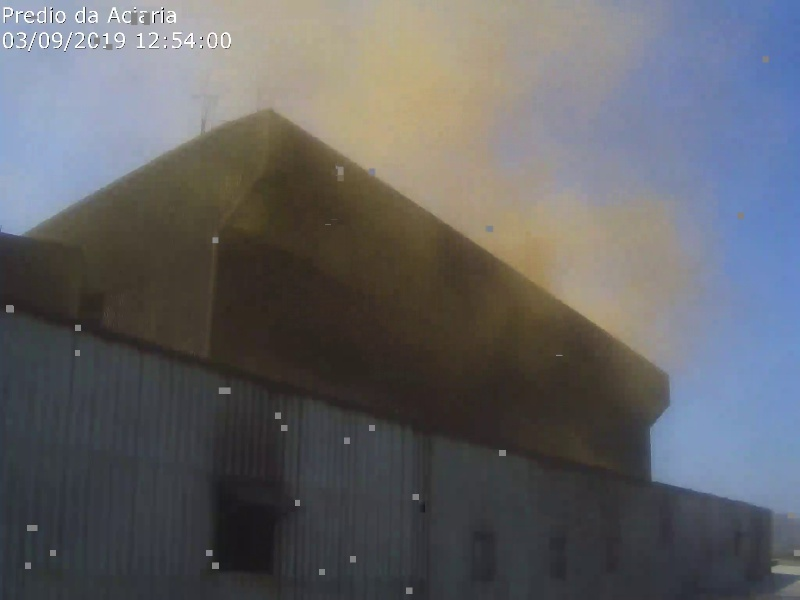Pessimo: (212, 1, 708, 485)
